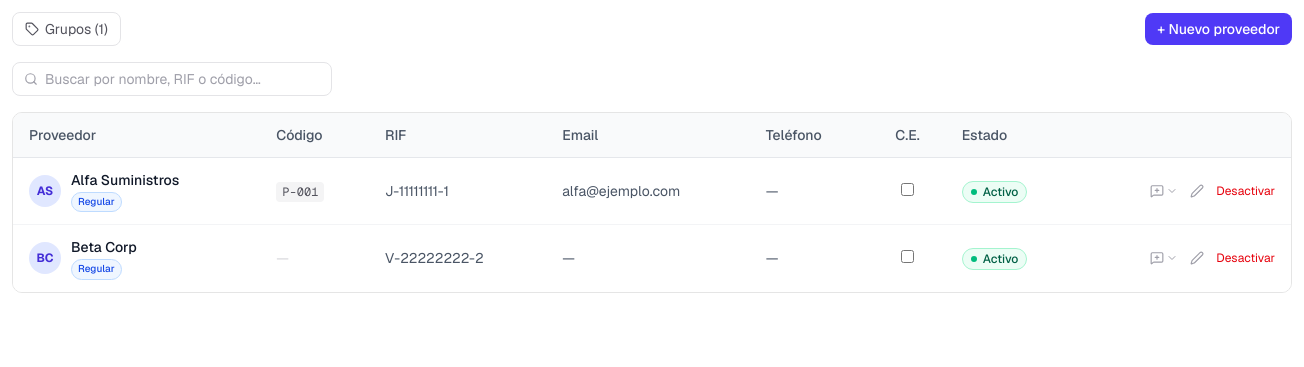
VendorList — smoke del refactor RHF (P2) › click en editar → el form inline muestra los defaultValues del vendor
The width and height of the screenshot is (1304, 367).
Fila de Alfa Suministros (primera por orden alfabético)
Click the button titled "Editar proveedor" in the row of "AS". click: {"x": 1197, "y": 191}
box: [1190,184,1204,198]
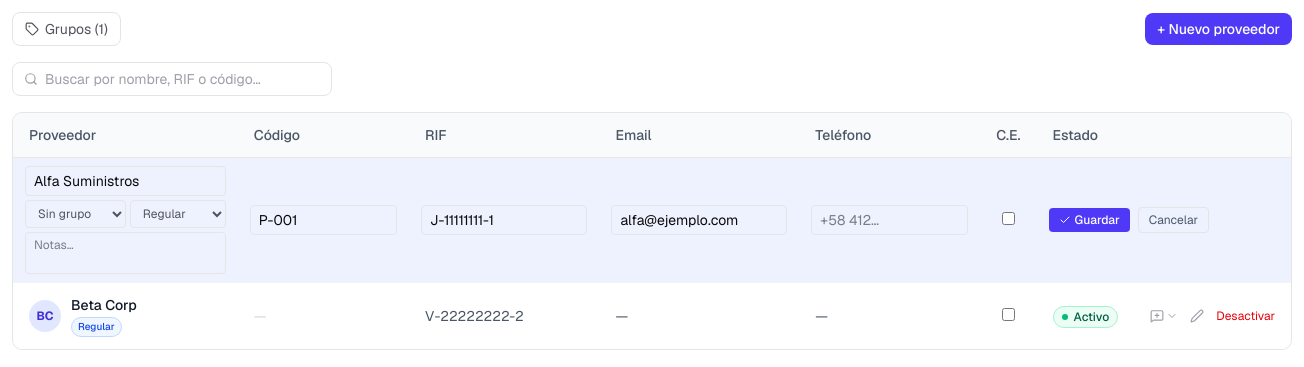
Now the 1st field showing "Alfa Suministros" is shown, box [25,166,226,196]
Now the 3rd field showing "J-11111111-1" is shown, box [421,205,587,235]
Now the 2nd field showing "P-001" is shown, box [250,205,397,235]
